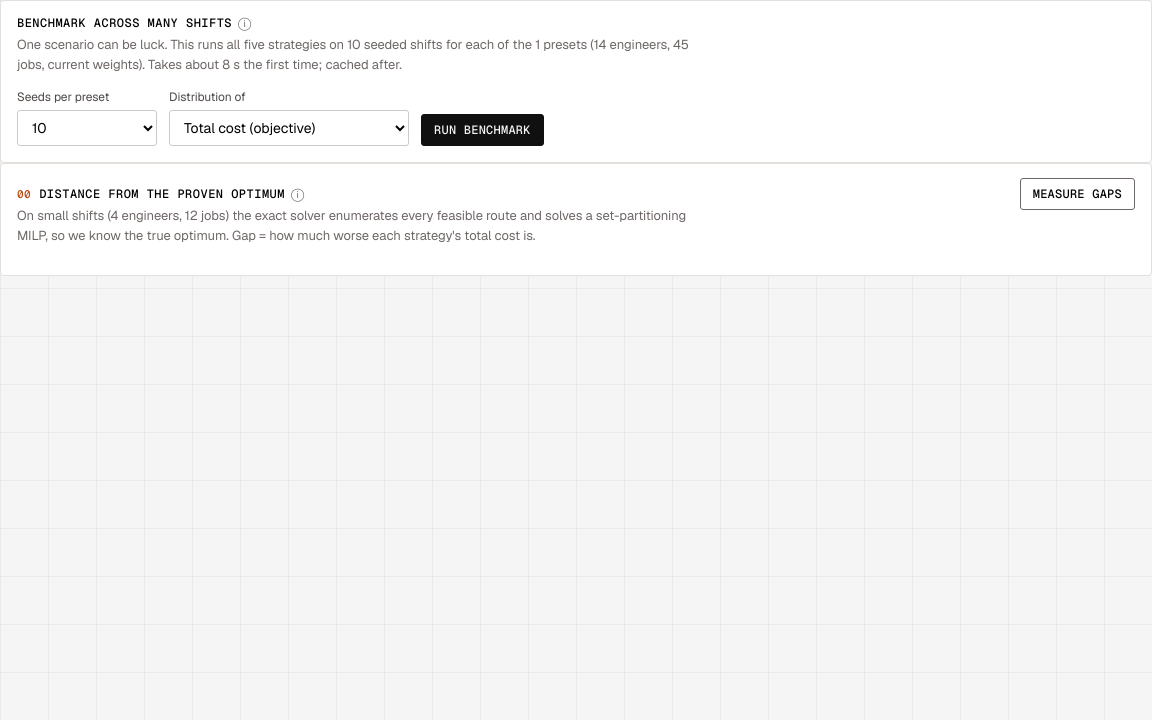
Benchmark verdicts › names the strategies tied with a cheapest plan that is also the fastest
Step 1. Click the button "Run benchmark" → x=482, y=130, box [421, 114, 544, 146]
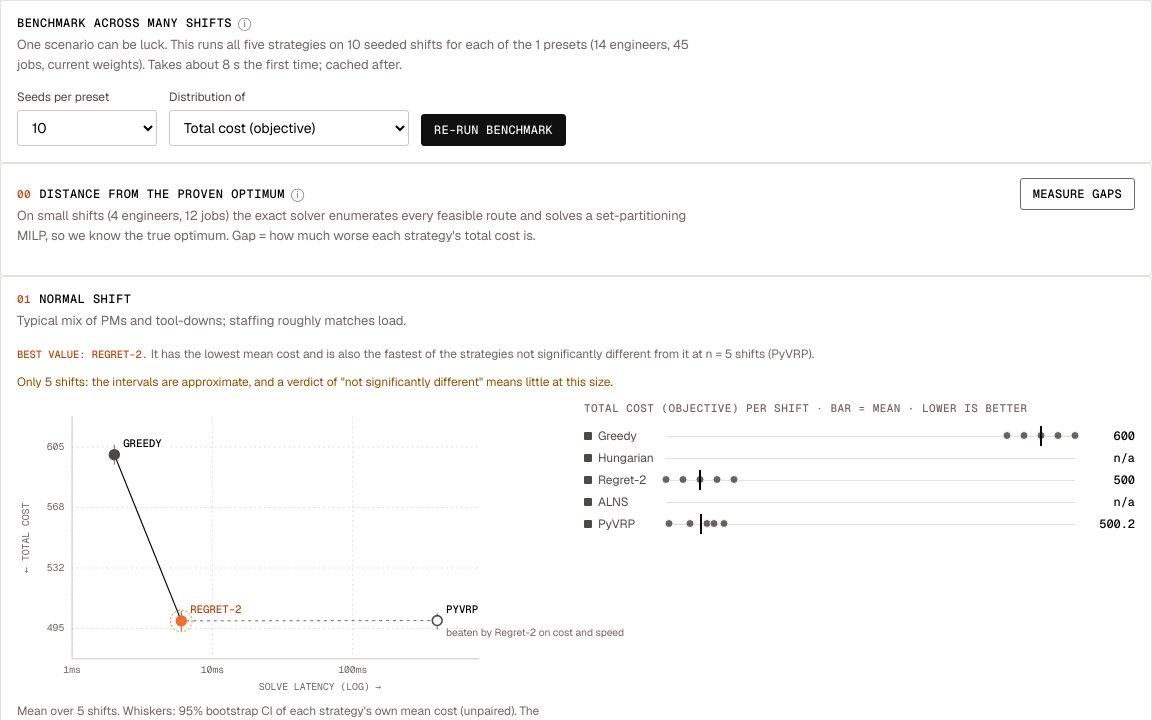
Expected: the text "Best value:" does not show "nothing else is statistically tied", [17, 346, 814, 362]
Expected: the text "Best value:" shows "Best value: Regret-2.", [17, 346, 814, 362]
Expected: the text "Best value:" shows "also the fastest of the strategies not significantly different from it at n = 5 shifts (PyVRP)", [151, 346, 814, 362]
